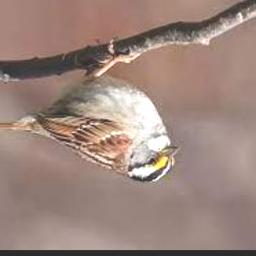Sparrow: (0, 38, 180, 183)
